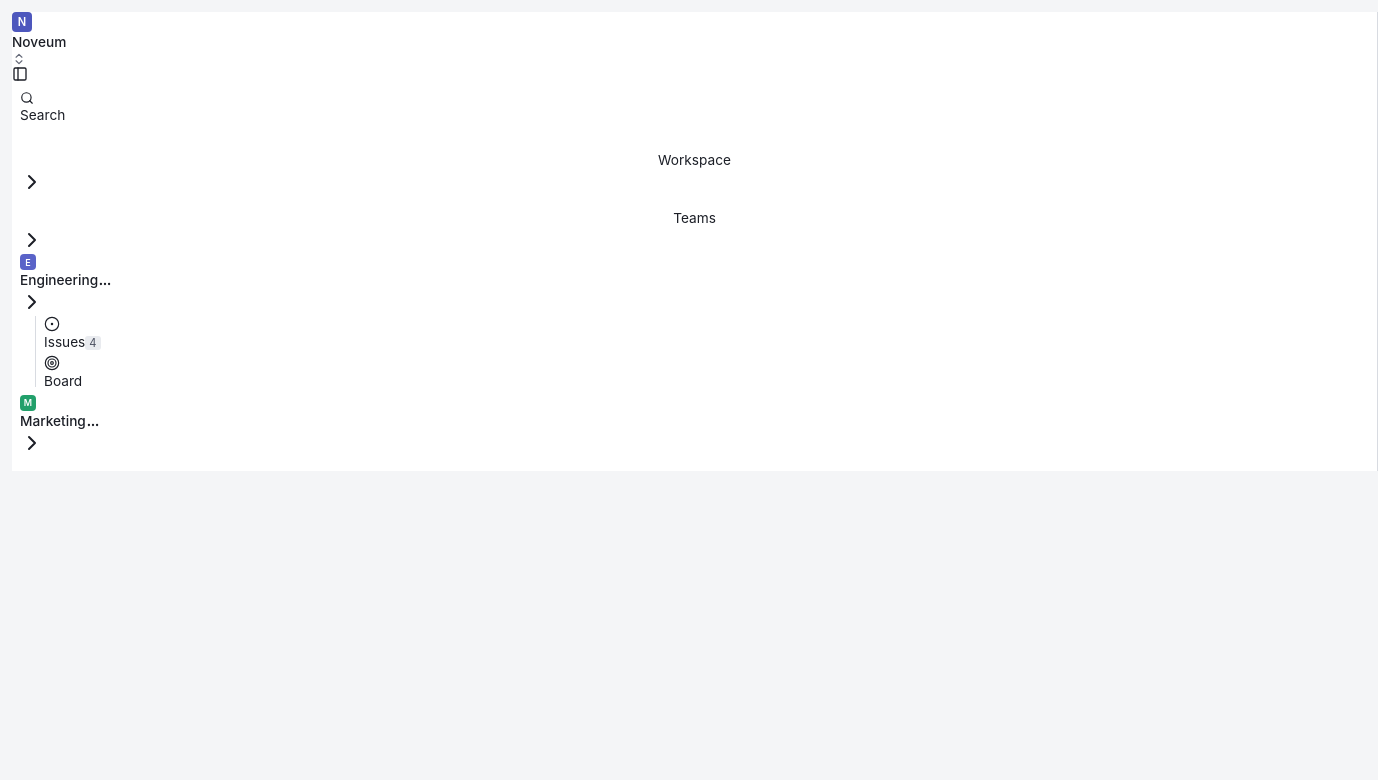
Test: Sidebar › reveals a team subtree when its row is clicked
The image size is (1378, 780).
Check: the number of links "Board" is 1, box left=44, top=355, right=82, bottom=389
Click the button with test id "team-toggle-MKT". click: {"x": 53, "y": 425}
box: left=20, top=395, right=86, bottom=455
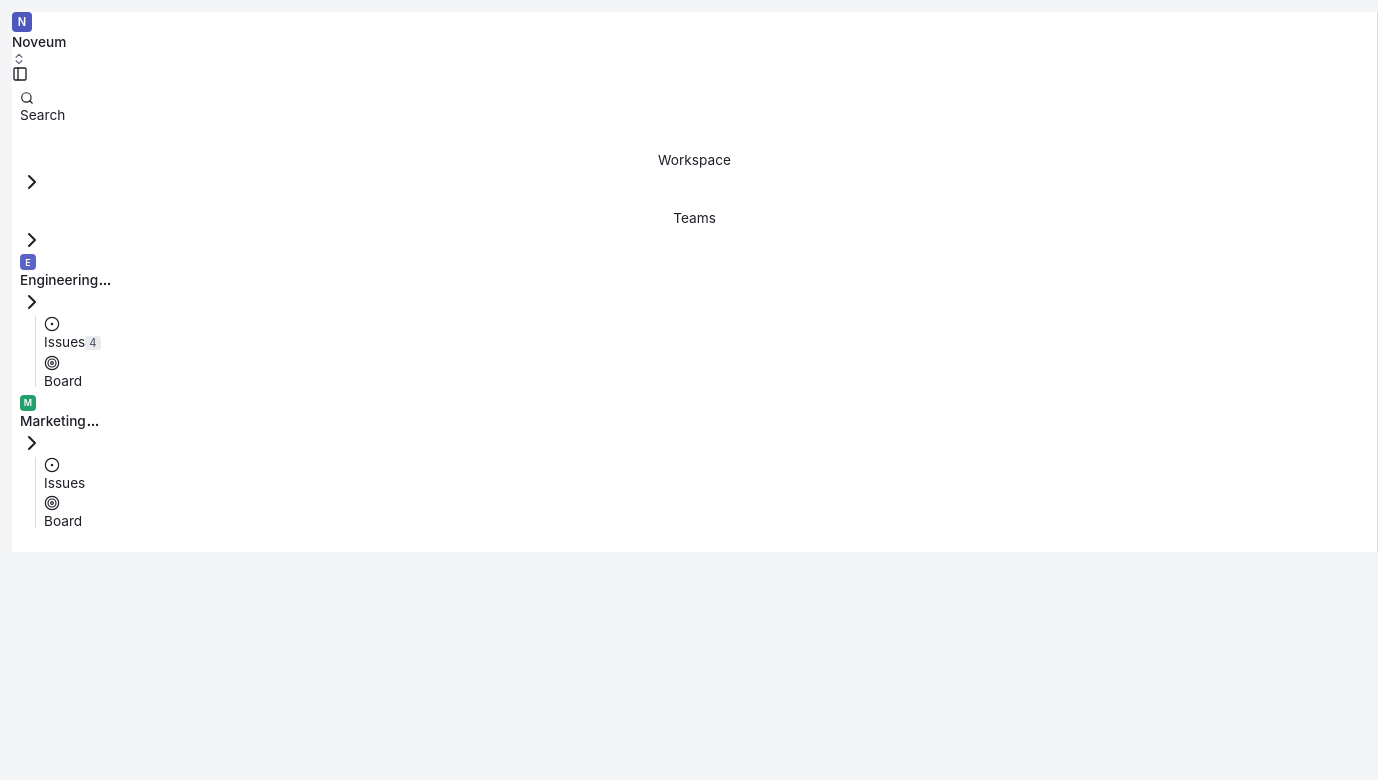
Check: the number of links "Board" is 2, box left=44, top=355, right=82, bottom=389; left=44, top=495, right=82, bottom=529
